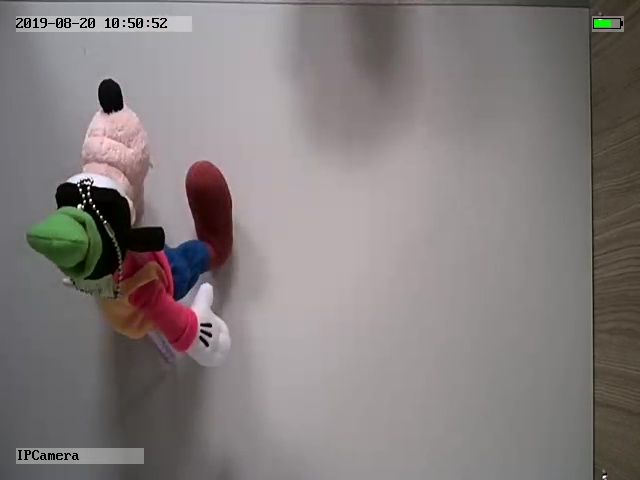goofy: (24, 76, 235, 367)
